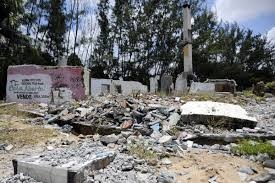rubble: (57, 100, 251, 146)
